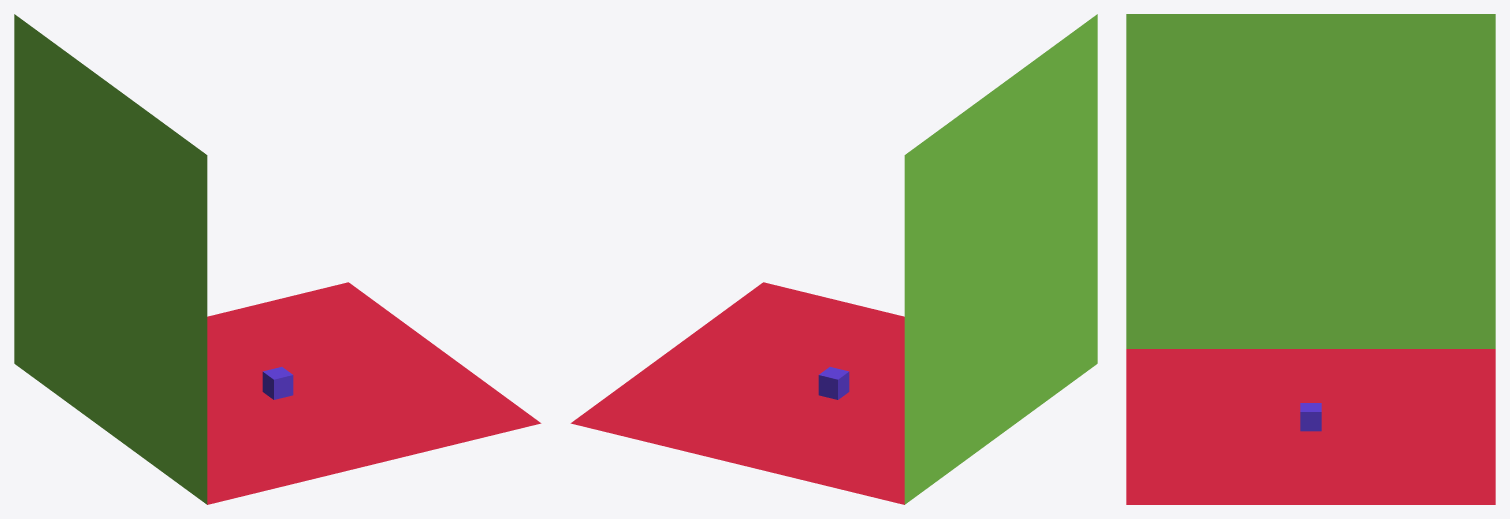
The picture shows the model from 3 angles, left to right: view 1: azimuth 30°, elevation 25°; view 2: azimuth 150°, elevation 25°; view 3: azimuth 270°, elevation 25°; orthographic projection. The views are drawn at different scales.
Visible parts, largest first — view 1: Plane.001, Plane, Cube; view 2: Plane.001, Plane, Cube; view 3: Plane.001, Plane, Cube.
Boxes of the visible parts, box(x1,y1,x2,y2) form: Plane.001: box(14, 14, 207, 504); Plane: box(207, 282, 541, 504); Cube: box(262, 367, 293, 399); Plane.001: box(904, 14, 1097, 504); Plane: box(570, 282, 904, 504); Cube: box(818, 367, 849, 399); Plane.001: box(1126, 14, 1495, 348); Plane: box(1126, 349, 1495, 504); Cube: box(1300, 403, 1321, 431).
Size of the model in its own units: 34.35 by 34.35 by 34.35.
